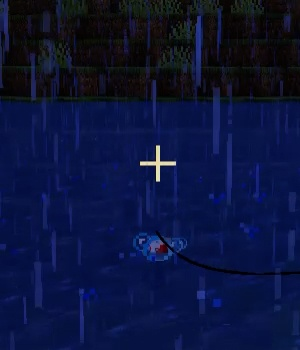up: (138, 229, 176, 259)
